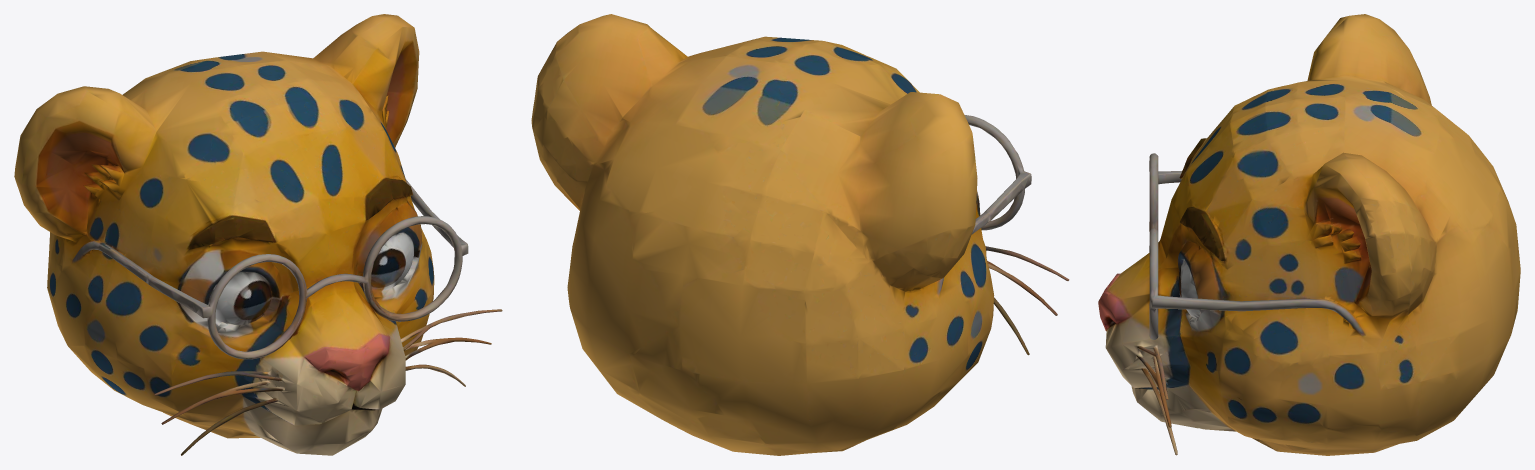
The model's file is lead-cabeza.glb.
3 views of the same model, side by side, from view 1: azimuth 30°, elevation 25°; view 2: azimuth 150°, elevation 25°; view 3: azimuth 270°, elevation 25° (orthographic). The views are drawn at different scales.
Parts seen in each view (by area): view 1: material; view 2: material; view 3: material.
Part boxes in pixels (x1,y1,x2,y2): material: (14, 14, 502, 455); material: (531, 14, 1069, 455); material: (1098, 14, 1520, 455).
Size of the model in its own units: 0.9743 by 0.8351 by 0.9112.
Materials: 1 (1 with a texture image).
